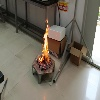fire: (38, 15, 50, 65)
